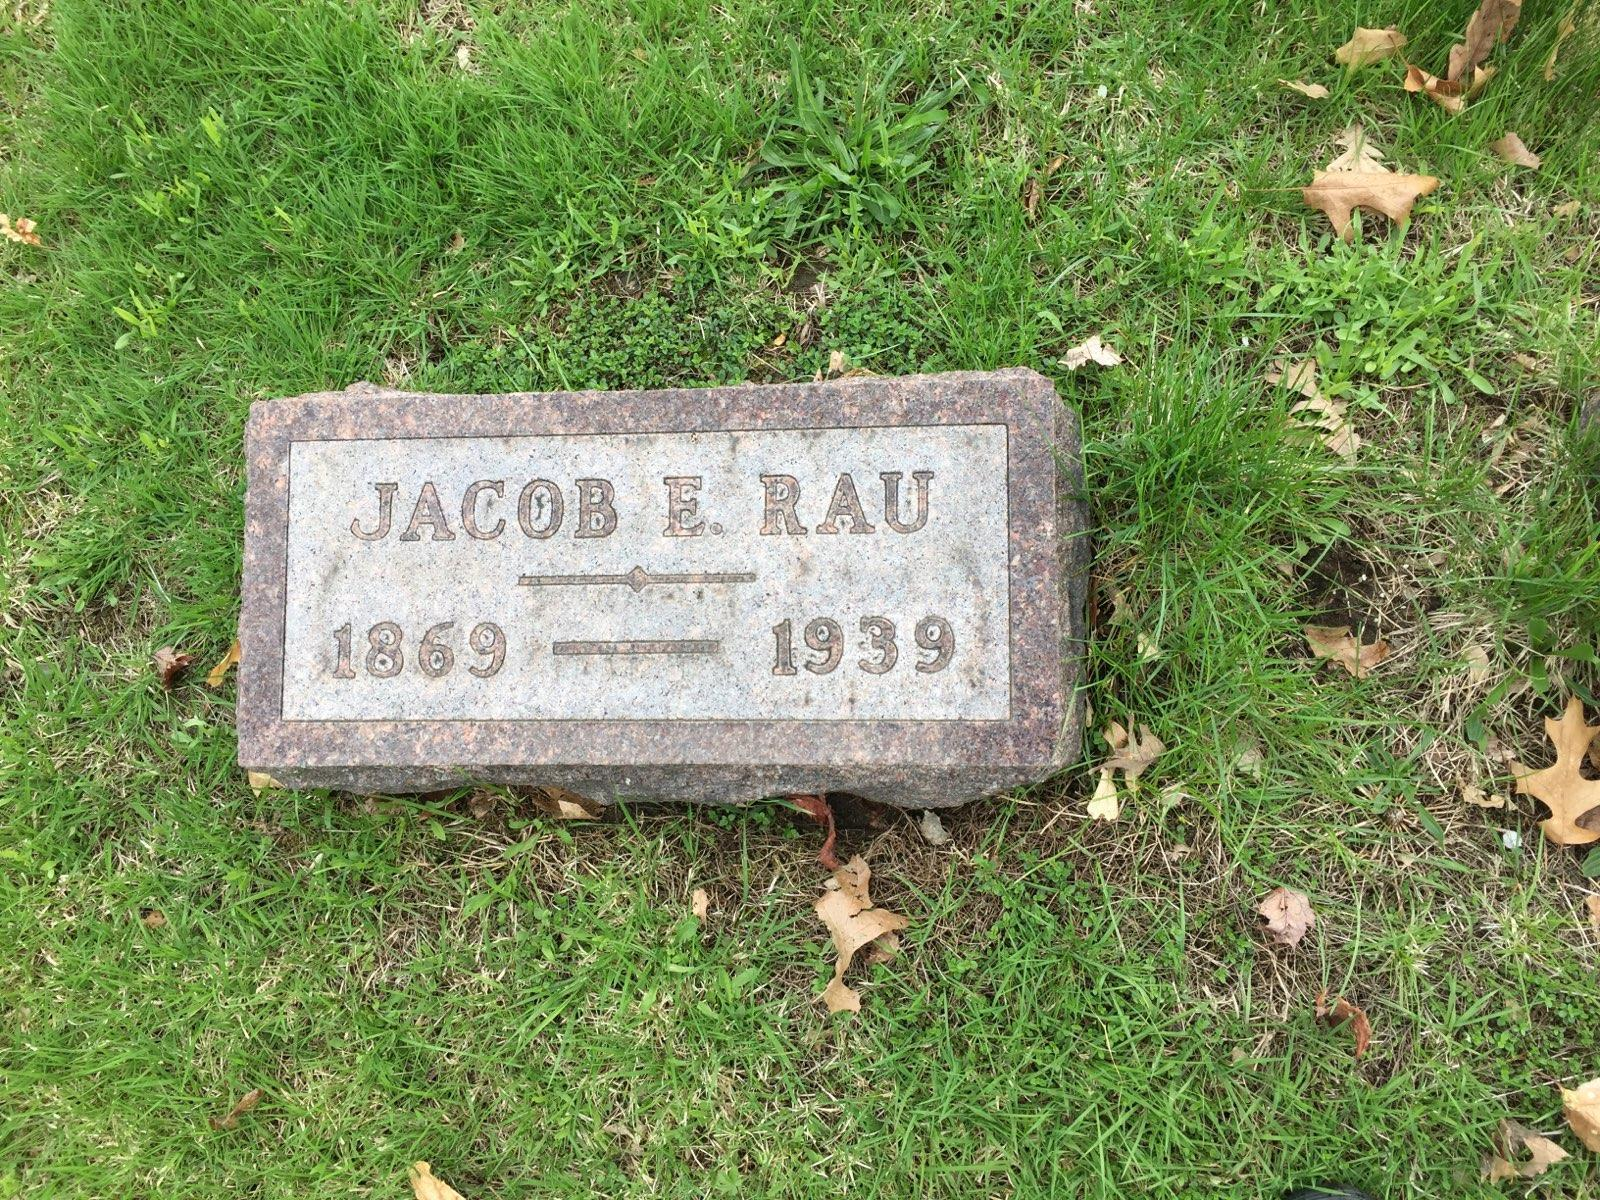flat: (236, 381, 1078, 799)
